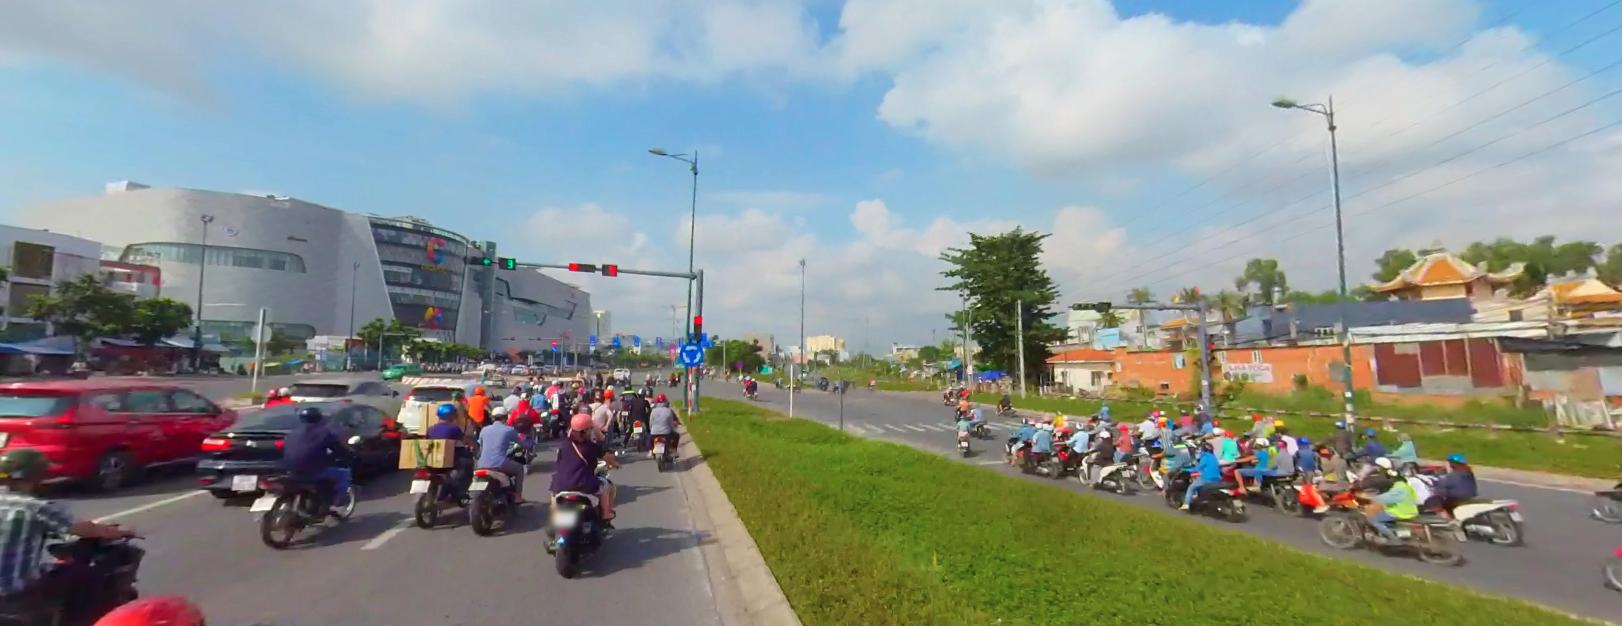Cam dung va do: (735, 358, 744, 366), (669, 341, 675, 347)
Cam nguoc chieu: (549, 337, 557, 342)
Hieu lenh: (679, 339, 703, 364), (550, 342, 557, 350)
